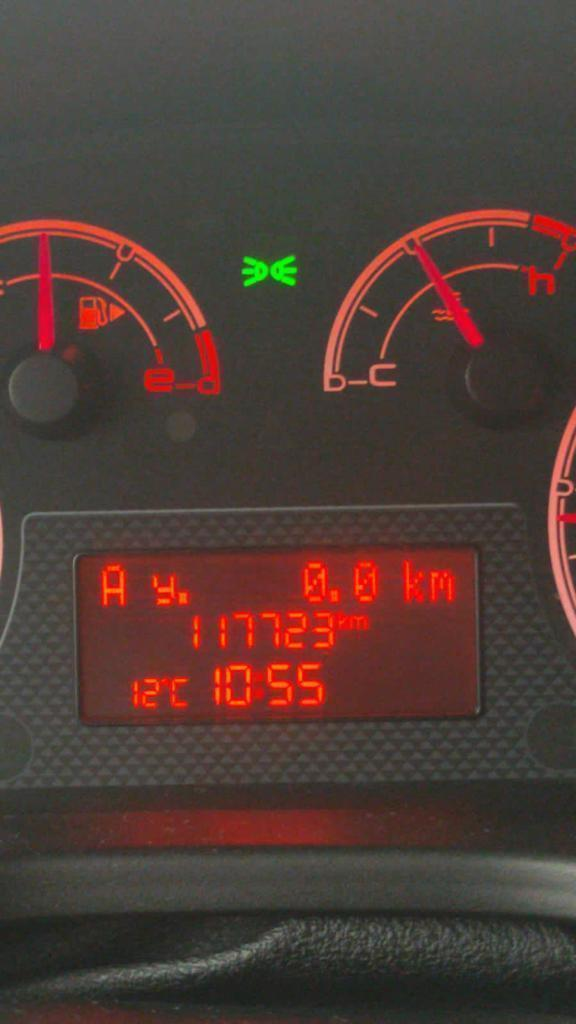,: (176, 587, 193, 607), (329, 586, 341, 604)
0: (350, 557, 380, 606), (223, 661, 252, 708), (300, 557, 328, 602)
1: (191, 610, 205, 652), (211, 665, 222, 710), (216, 612, 228, 651), (129, 676, 139, 712)
2: (283, 609, 308, 651), (141, 676, 160, 711)
3: (311, 608, 334, 652)
5: (297, 658, 326, 710), (266, 658, 293, 709)
7: (230, 608, 255, 650), (258, 608, 282, 650)
X: (100, 561, 127, 609), (401, 557, 426, 605), (428, 566, 455, 604), (150, 572, 176, 609), (169, 676, 191, 710), (349, 612, 369, 633), (254, 667, 263, 707), (335, 607, 349, 632)
odometer: (71, 537, 487, 731)
